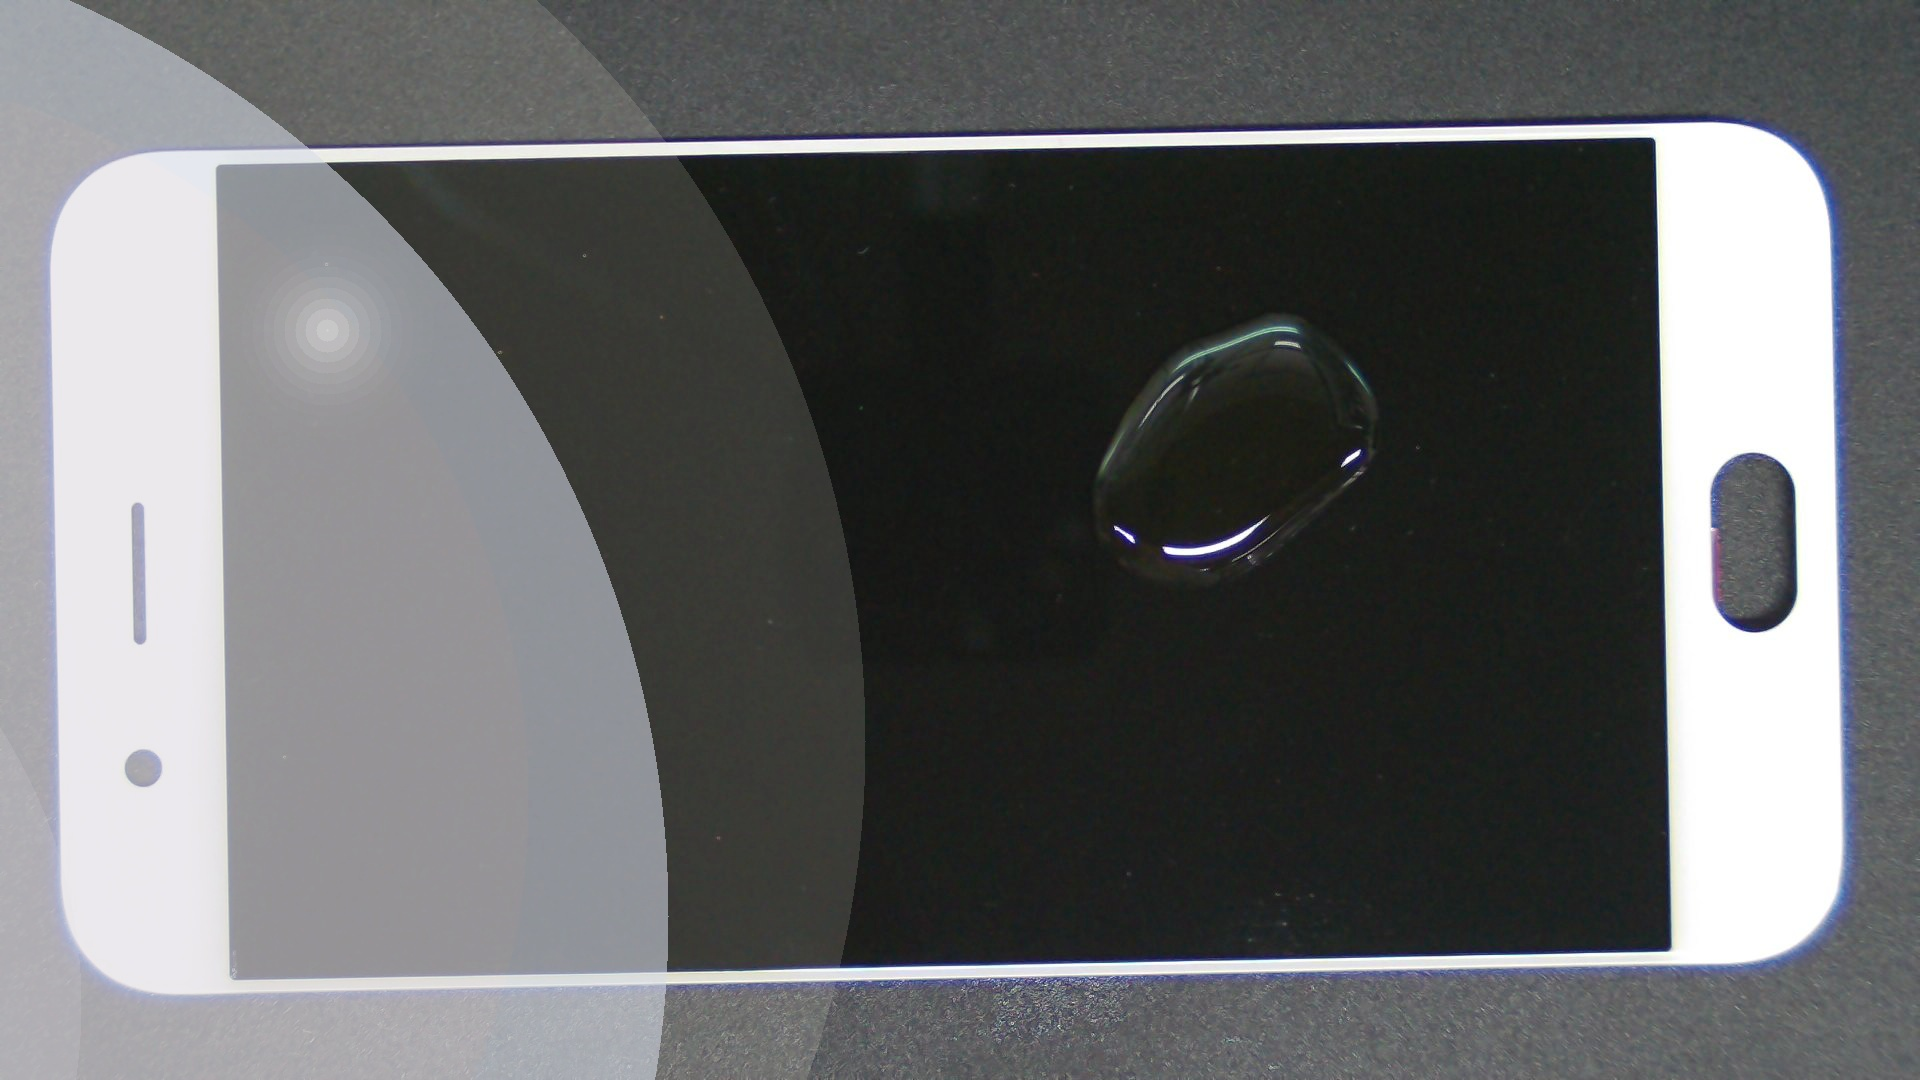oil: (641, 156, 1920, 469)
